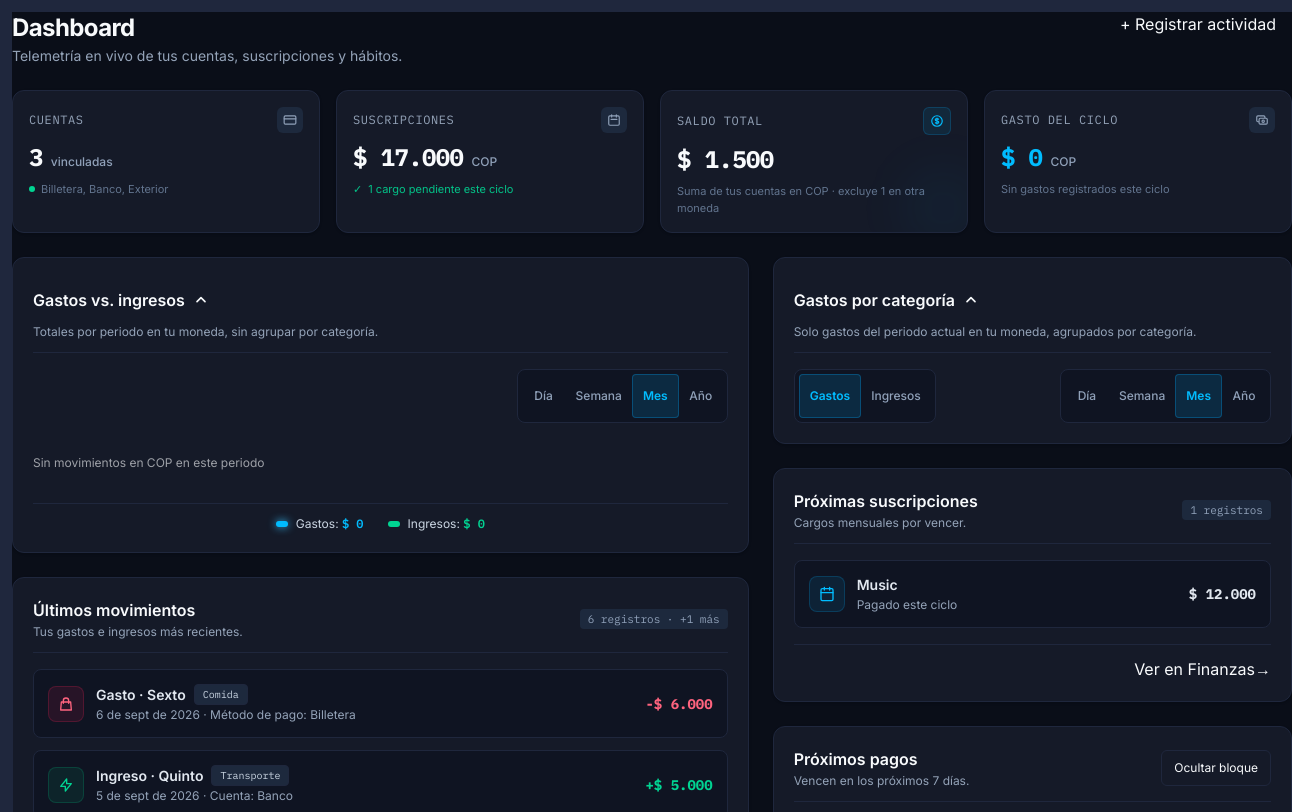
Scenario: DashboardHome chart disclosures W4 › keeps each period selection in its own radio group
Expected: the radio button named "dashboard-total-trend-period" is checked, left=632, top=374, right=679, bottom=418
Expected: the radio button named "dashboard-expense-pie-period" is checked, left=1175, top=374, right=1222, bottom=418
Click the radio button named "dashboard-expense-pie-period".
click(1087, 396)  # box left=1078, top=388, right=1096, bottom=403
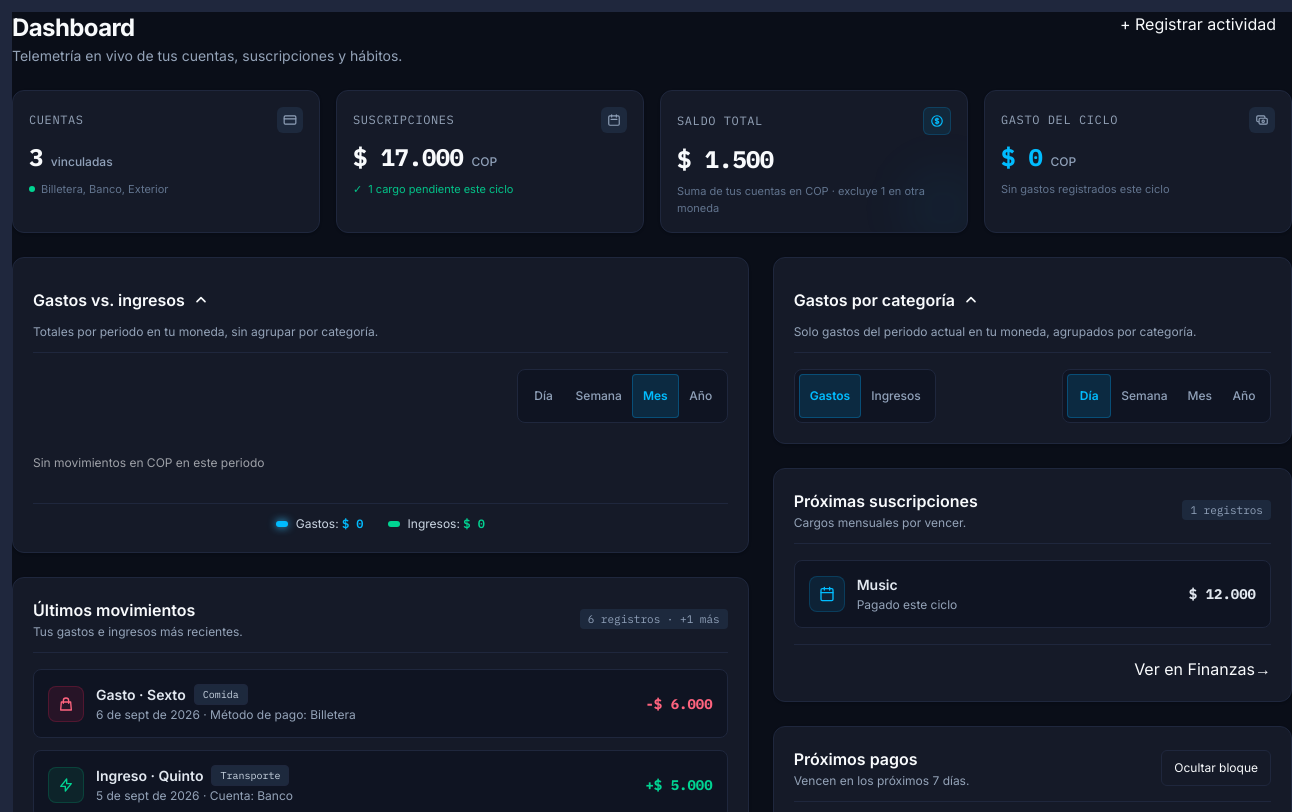
Expected: the radio button named "dashboard-total-trend-period" is checked, left=632, top=374, right=679, bottom=418
Result: the radio button named "dashboard-expense-pie-period" is checked at left=1067, top=374, right=1111, bottom=418
Result: the radio button named "dashboard-expense-pie-period" is not checked at left=1188, top=388, right=1212, bottom=403
